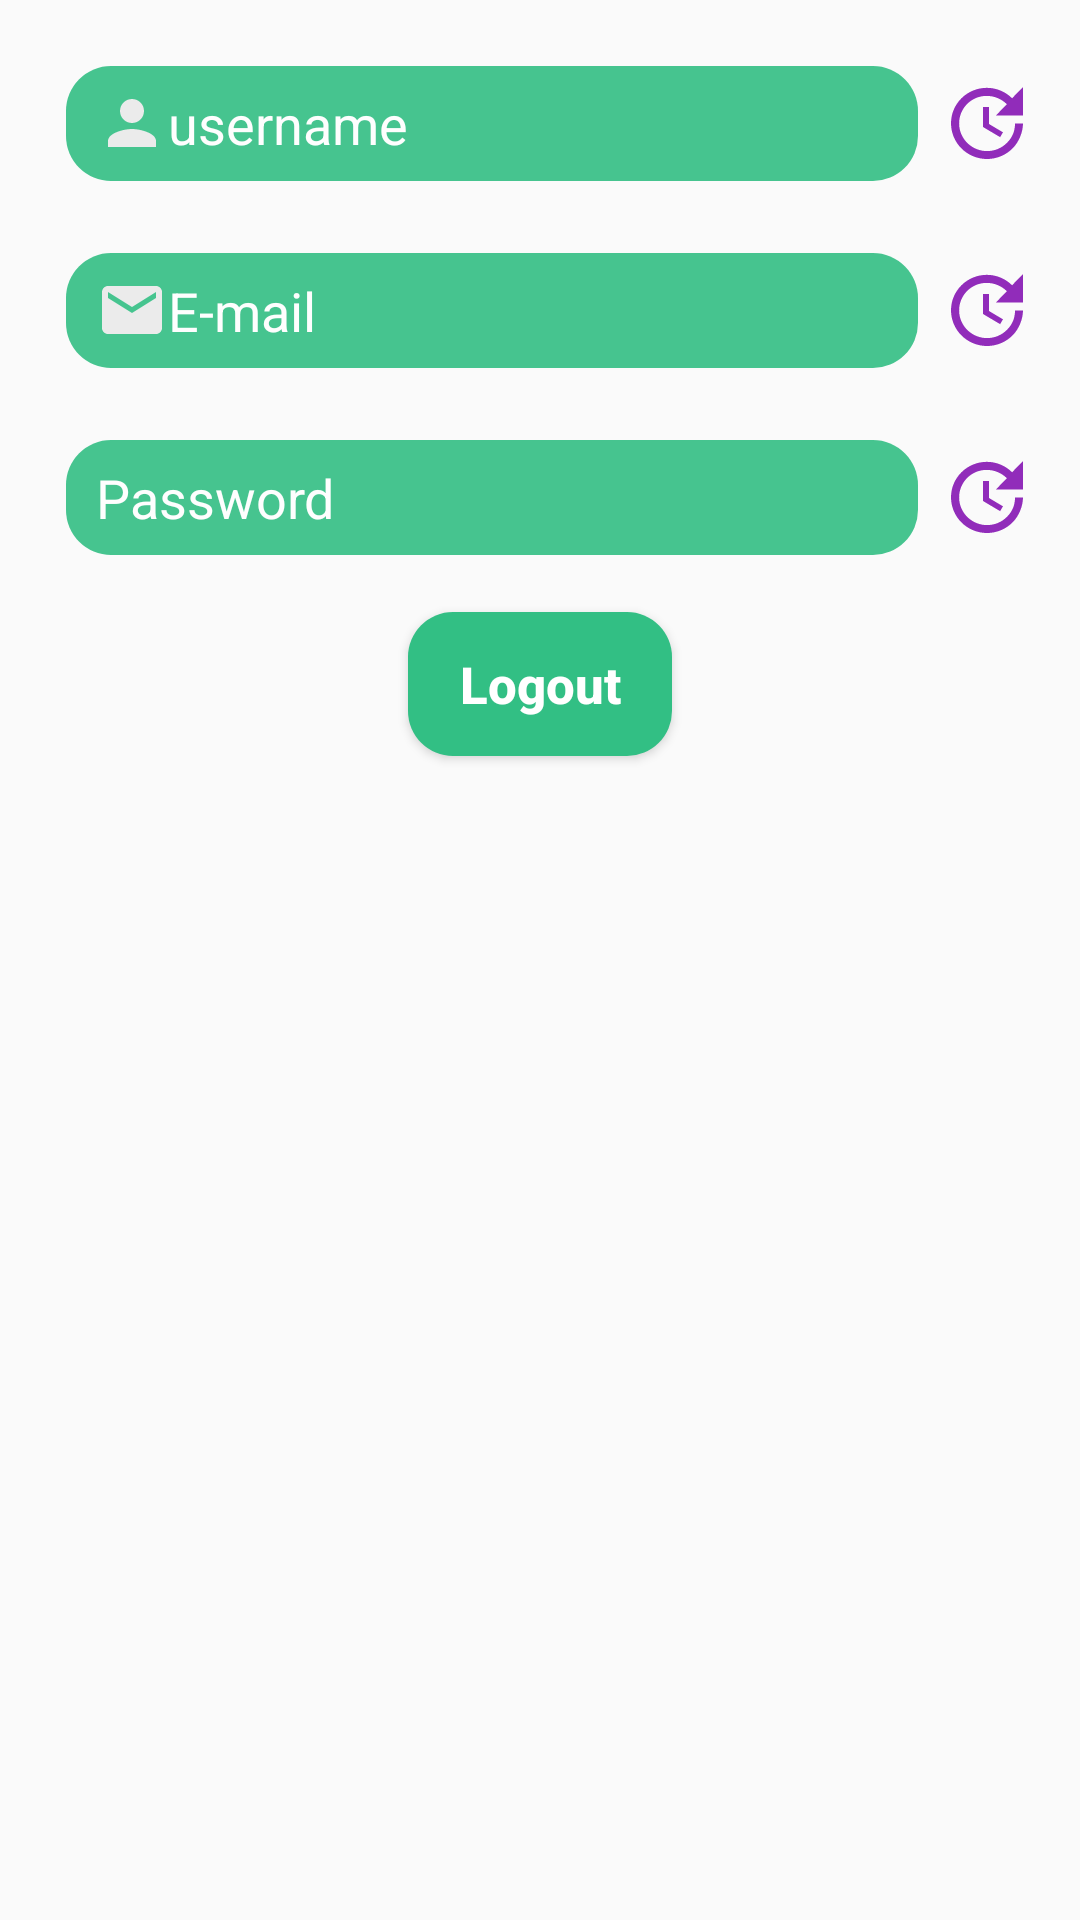

Screen size 1080 x 1920. Icon name, then its box in pixels as (x1, y1, x2, y2):
update: (951, 87, 1023, 159), (951, 274, 1023, 346), (951, 461, 1023, 533)
